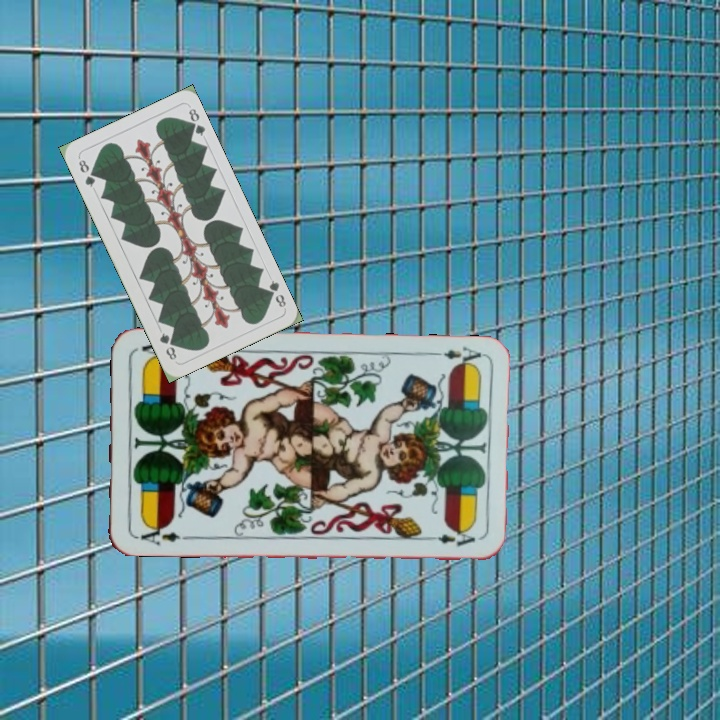EA: (426, 342, 484, 369), (131, 521, 182, 548)
G8: (262, 276, 289, 310), (75, 154, 98, 190)
